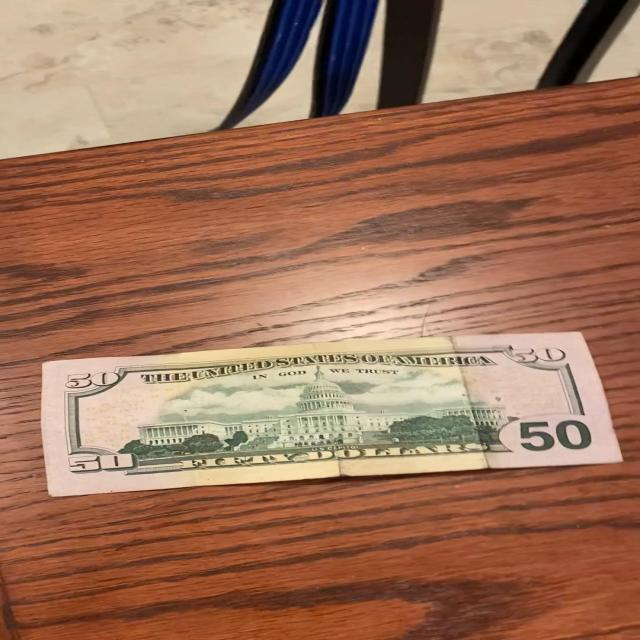50-Back: (34, 326, 638, 500)
